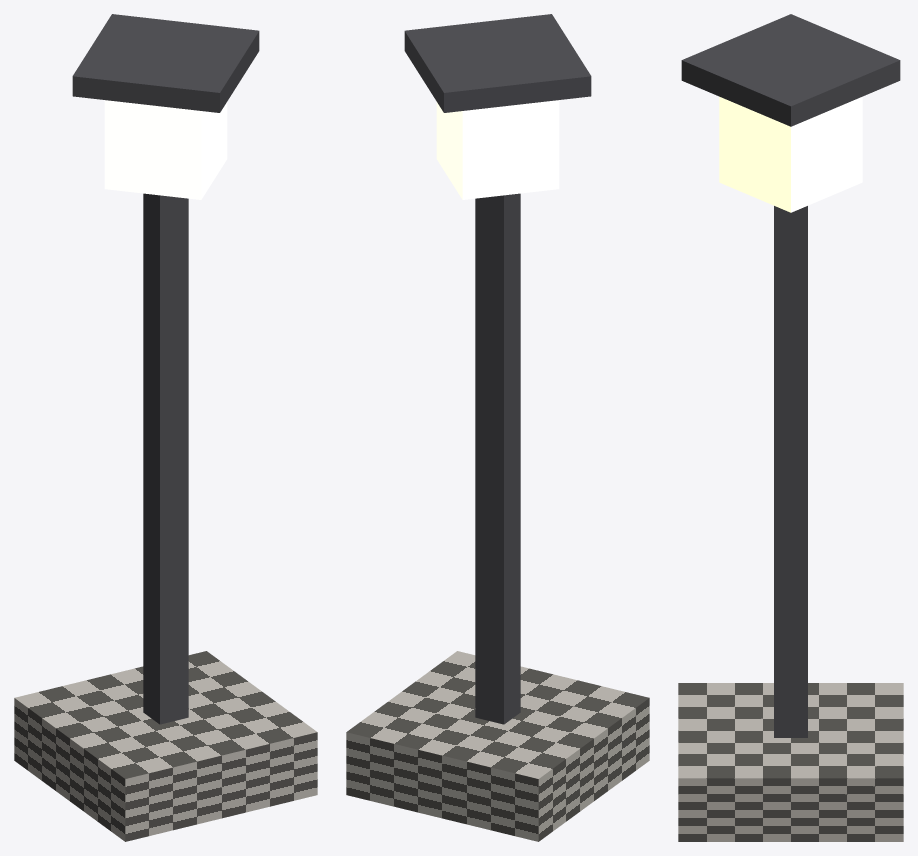
The model's file is lantern.glb.
3 views of the same model, side by side, from view 1: azimuth 30°, elevation 25°; view 2: azimuth 150°, elevation 25°; view 3: azimuth 270°, elevation 25° (orthographic).
Visible parts, largest first — view 1: Base, Pole, Cap, Glass; view 2: Base, Pole, Cap, Glass; view 3: Base, Pole, Cap, Glass.
Boxes of the visible parts, <box> form: Base: <box>14,651,317,841</box>; Pole: <box>143,193,188,724</box>; Cap: <box>72,14,259,112</box>; Glass: <box>104,100,227,199</box>; Base: <box>346,651,649,841</box>; Pole: <box>475,193,520,724</box>; Cap: <box>404,14,591,112</box>; Glass: <box>436,100,559,199</box>; Base: <box>678,683,903,841</box>; Pole: <box>774,206,807,737</box>; Cap: <box>681,14,900,126</box>; Glass: <box>719,96,862,212</box>.
Bounding box in the file's own units: 0.8 × 2.88 × 0.8.
Materials: 3 (1 with a texture image).
